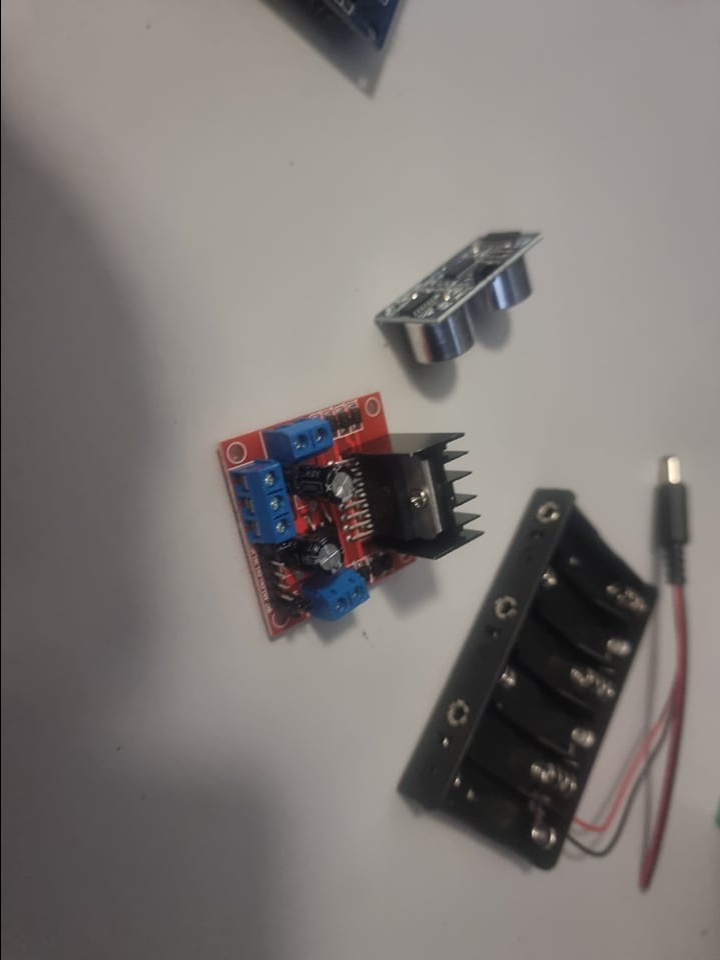BATTERY BOX: (388, 489, 659, 872)
MOTOR: (212, 396, 483, 648)
SENSOR: (372, 228, 545, 366)
